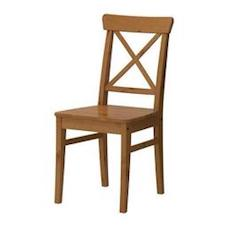chair: (44, 7, 179, 214)
